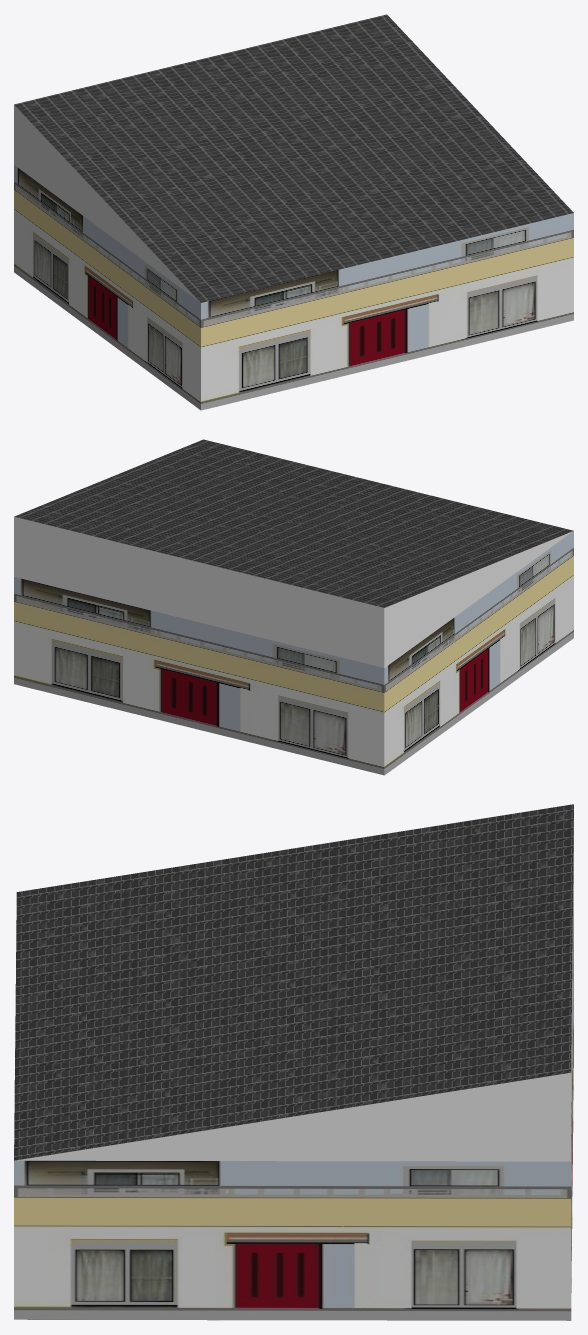
3 views of the same model, one above another, from view 1: azimuth 30°, elevation 25°; view 2: azimuth 150°, elevation 25°; view 3: azimuth 270°, elevation 25° (orthographic). The views are drawn at different scales.
Parts seen in each view (by area): view 1: CityEngineMaterial_16_m, CityEngineMaterial_15_m, CityEngineMaterial_3_m; view 2: CityEngineMaterial_15_m, CityEngineMaterial_16_m, CityEngineMaterial_3_m; view 3: CityEngineMaterial_16_m, CityEngineMaterial_15_m, CityEngineMaterial_3_m.
Boxes of the visible parts, x1,y1,x2,y2 form: CityEngineMaterial_16_m: (14, 14, 573, 302); CityEngineMaterial_15_m: (14, 165, 573, 410); CityEngineMaterial_3_m: (14, 105, 200, 302); CityEngineMaterial_15_m: (14, 531, 573, 775); CityEngineMaterial_16_m: (14, 439, 573, 607); CityEngineMaterial_3_m: (14, 516, 572, 667); CityEngineMaterial_16_m: (14, 804, 573, 1160); CityEngineMaterial_15_m: (14, 909, 573, 1320); CityEngineMaterial_3_m: (15, 820, 573, 1161).
Size of the model in its own units: 30.15 by 12.94 by 26.47.
